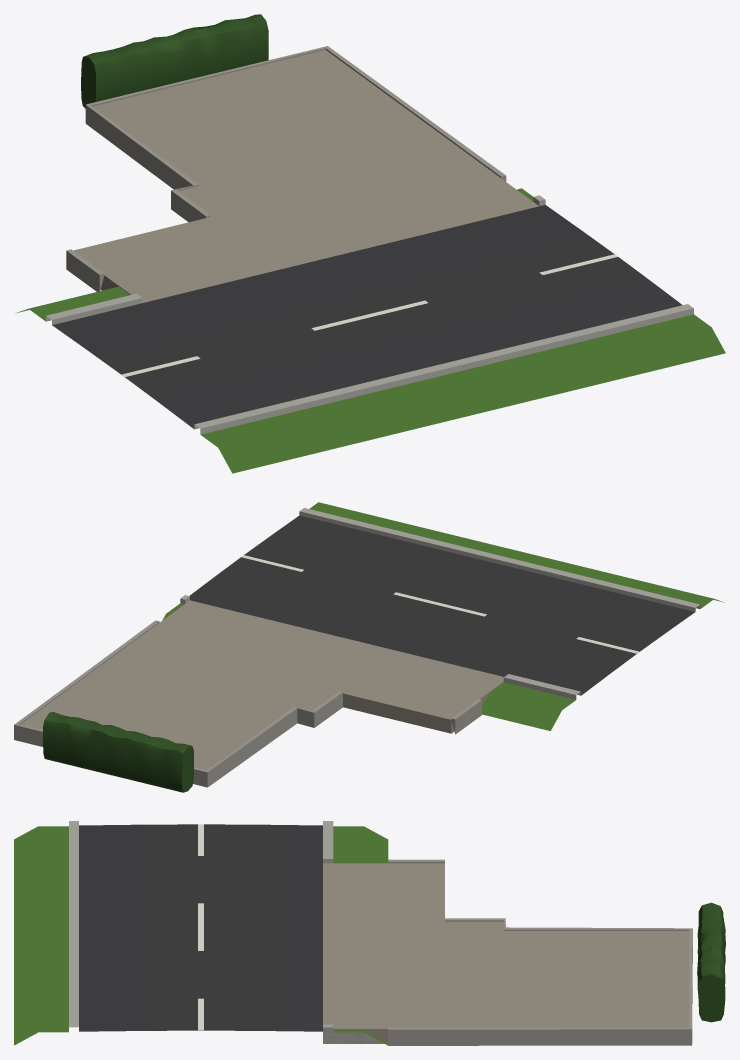
The model's file is bakery_pad.glb.
The picture shows the model from 3 angles, top to bottom: view 1: azimuth 30°, elevation 25°; view 2: azimuth 150°, elevation 25°; view 3: azimuth 270°, elevation 25°; orthographic projection. The views are drawn at different scales.
Visible parts, largest first — view 1: bakery_pad_lod0; view 2: bakery_pad_lod0; view 3: bakery_pad_lod0.
Part boxes in pixels (left/top/right/bottom): bakery_pad_lod0: left=15, top=14, right=725, bottom=473; bakery_pad_lod0: left=14, top=502, right=724, bottom=792; bakery_pad_lod0: left=14, top=821, right=725, bottom=1045.
Size of what is drawn, in the model's own units: 12 by 1.31 by 17.51.
